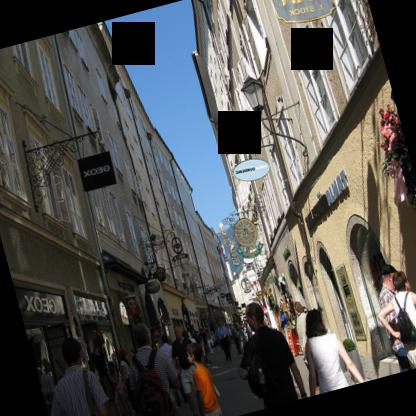backpack: (132, 348, 174, 416), (393, 289, 416, 345)
handbag: (245, 333, 270, 399), (82, 367, 99, 416)
